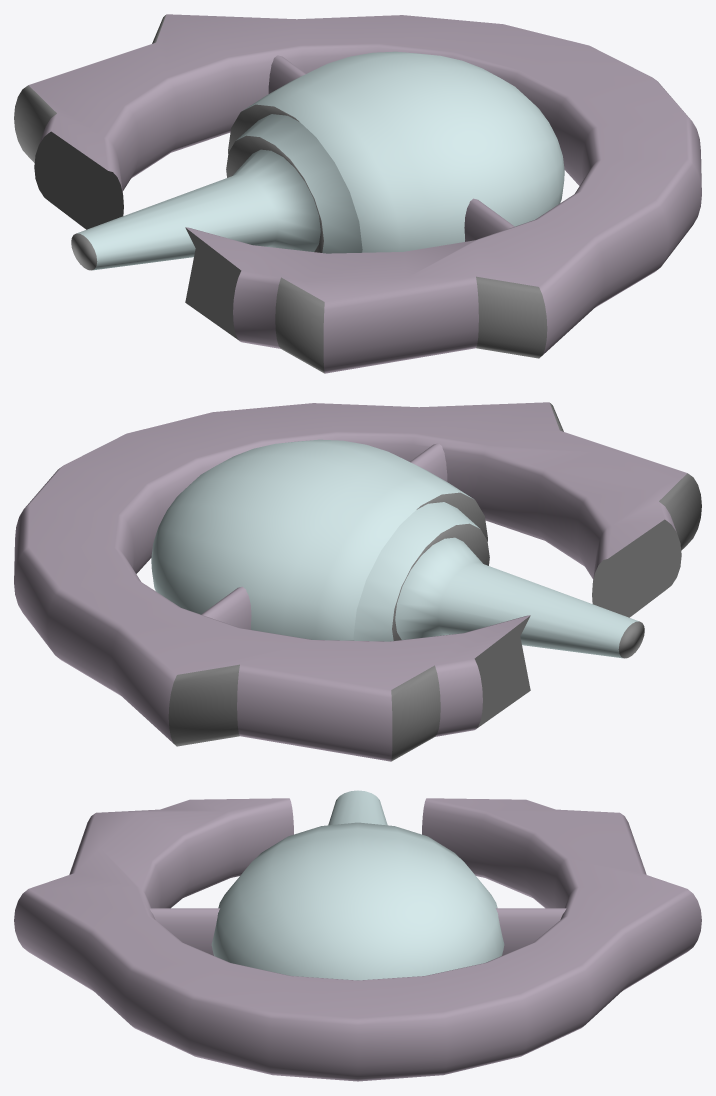
The model's file is Shooter.fbx.
3 renders of one model, top to bottom at view 1: azimuth 30°, elevation 25°; view 2: azimuth 150°, elevation 25°; view 3: azimuth 270°, elevation 25°, orthographic. The views are drawn at different scales.
Parts seen in each view (by area): view 1: ring, Command, attachmentR, attachmentL; view 2: ring, Command, attachmentL, attachmentR; view 3: ring, Command, attachmentL, attachmentR.
Part boxes in pixels (x1=…): ring: x1=14, y1=14, x2=701, y2=373; Command: x1=71, y1=51, x2=564, y2=270; attachmentR: x1=464, y1=198, x2=514, y2=241; attachmentL: x1=268, y1=55, x2=305, y2=93; ring: x1=14, y1=402, x2=701, y2=761; Command: x1=151, y1=439, x2=644, y2=658; attachmentL: x1=201, y1=586, x2=251, y2=629; attachmentR: x1=410, y1=443, x2=447, y2=481; ring: x1=14, y1=798, x2=701, y2=1081; Command: x1=211, y1=790, x2=504, y2=980; attachmentL: x1=496, y1=908, x2=566, y2=955; attachmentR: x1=149, y1=908, x2=219, y2=955.
Bounding box in the file's own units: 20.68 × 23.88 × 6.93.
